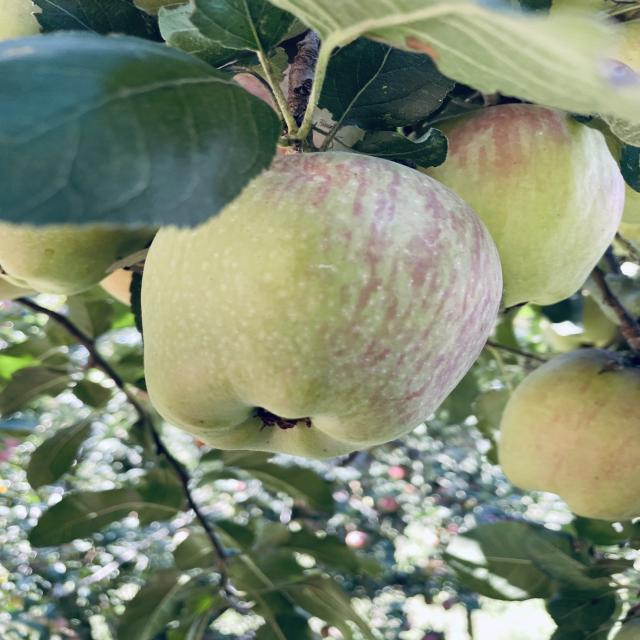Apple: (142, 152, 502, 459), (423, 104, 625, 306), (498, 349, 640, 521)
